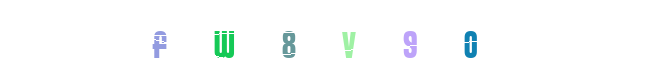8: (267, 0, 347, 80)
9: (295, 0, 375, 80)
F: (184, 0, 264, 80)
O: (430, 0, 510, 80)
V: (284, 0, 364, 80)
W: (263, 0, 343, 80)
